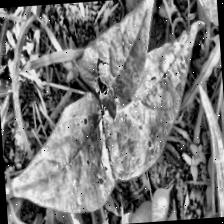ALS: (100, 22, 210, 180), (0, 91, 117, 223), (78, 0, 168, 113)
